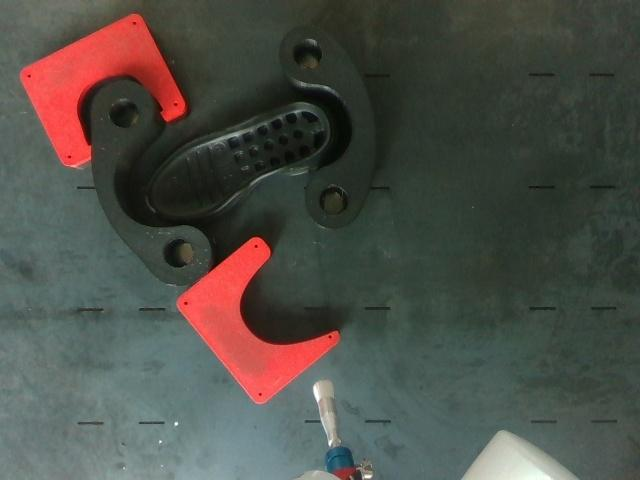shoes: (146, 103, 329, 218)
